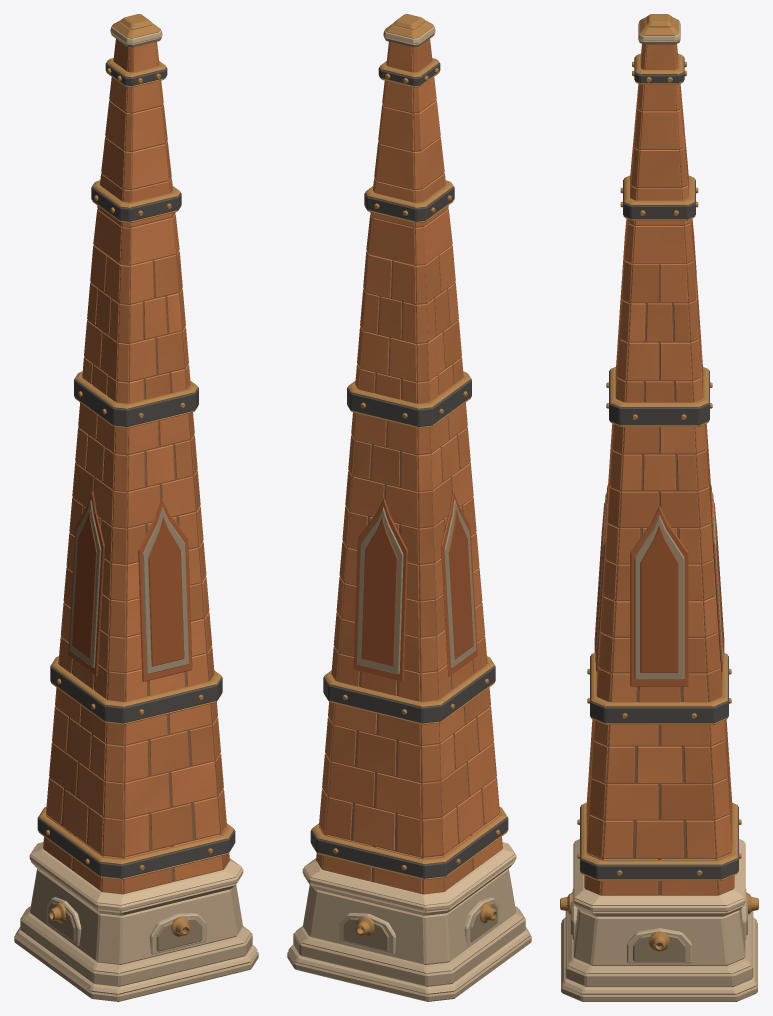
Rendered from wsc-arch-004-obelisk.glb.
3 views of the same model, side by side, from view 1: azimuth 30°, elevation 25°; view 2: azimuth 150°, elevation 25°; view 3: azimuth 270°, elevation 25° (orthographic).
Parts seen in each view (by area): view 1: wsc-arch-004-obelisk; view 2: wsc-arch-004-obelisk; view 3: wsc-arch-004-obelisk.
Part boxes in pixels (x1,y1,x2,y2): wsc-arch-004-obelisk: [14, 14, 258, 1001]; wsc-arch-004-obelisk: [287, 14, 531, 1001]; wsc-arch-004-obelisk: [560, 14, 758, 1001].
Size of the model in its own units: 4.21 by 22 by 4.21.
